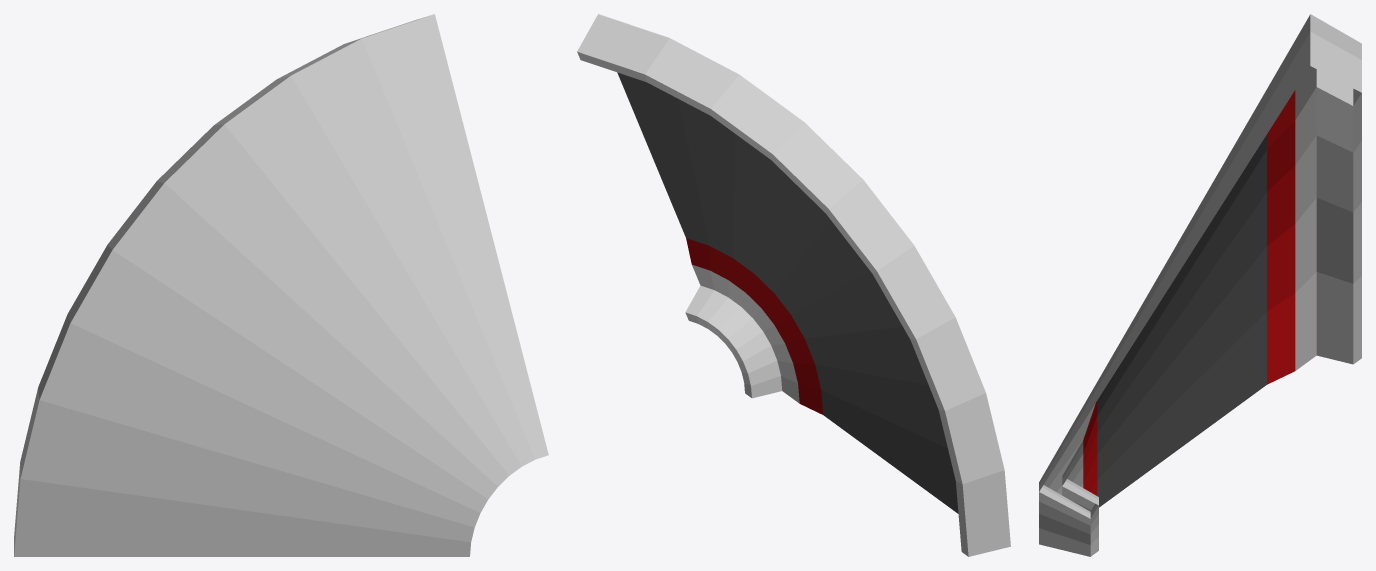
File: Corner_Pitch2.fbx
3 renders of one model, left to right at view 1: azimuth 30°, elevation 25°; view 2: azimuth 150°, elevation 25°; view 3: azimuth 270°, elevation 25°, orthographic. The views are drawn at different scales.
Parts seen in each view (by area): view 1: Corner_Pitch2; view 2: Corner_Pitch2; view 3: Corner_Pitch2.
Part boxes in pixels (x1=…): Corner_Pitch2: x1=14, y1=14, x2=548, y2=556; Corner_Pitch2: x1=577, y1=14, x2=1010, y2=556; Corner_Pitch2: x1=1039, y1=14, x2=1361, y2=556.
Bounding box in the file's own units: 1364 × 1364 × 761.
